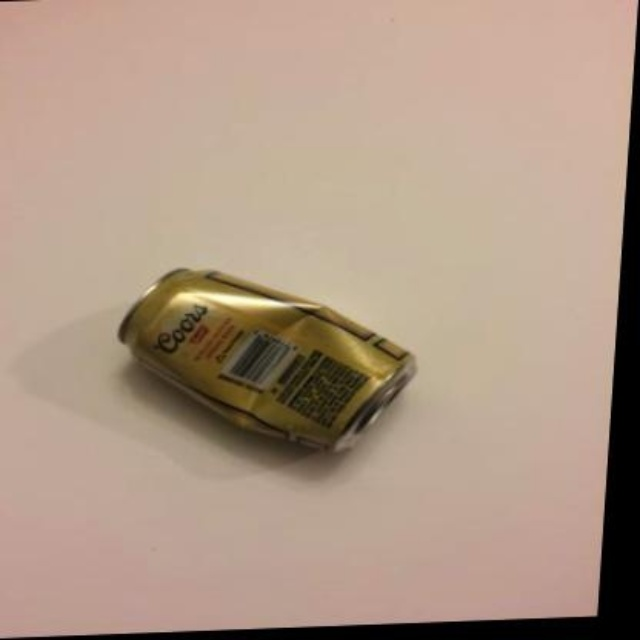trash: (118, 268, 415, 449)
